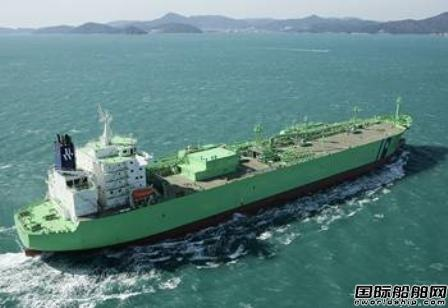Cargoship: (15, 89, 413, 256)
